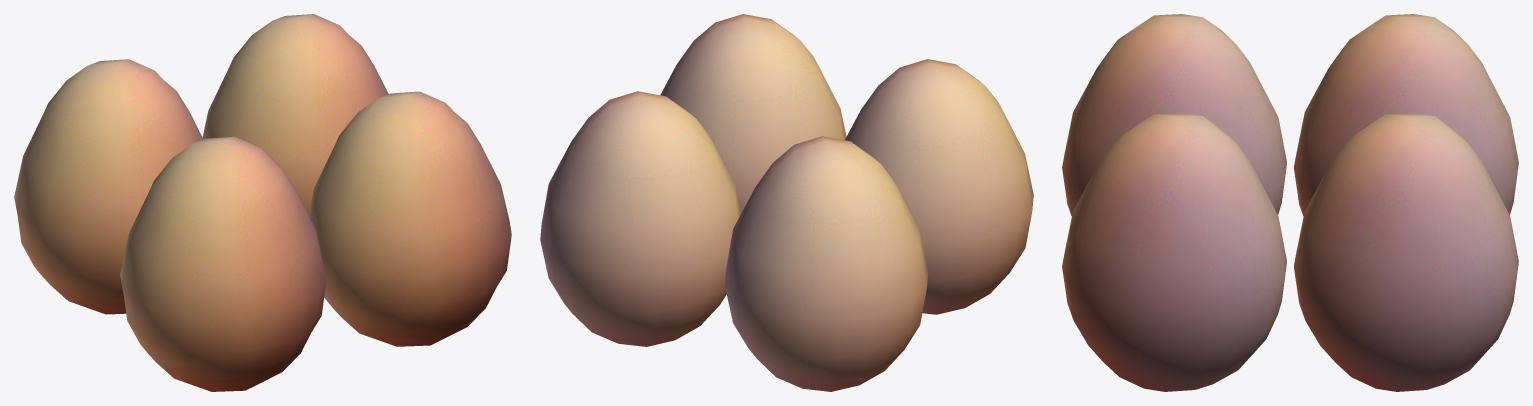
The model's file is egg.glb.
The picture shows the model from 3 angles, left to right: view 1: azimuth 30°, elevation 25°; view 2: azimuth 150°, elevation 25°; view 3: azimuth 270°, elevation 25°; orthographic projection. The views are drawn at different scales.
Visible parts, largest first — view 1: Egg; view 2: Egg; view 3: Egg.
Part boxes in pixels (bbox=[...]): Egg: bbox=[14, 14, 511, 391]; Egg: bbox=[540, 14, 1033, 391]; Egg: bbox=[1062, 14, 1518, 391].
Size of the model in its own units: 1.48 by 0.9495 by 1.46.
Materials: 4 (4 with a texture image).
